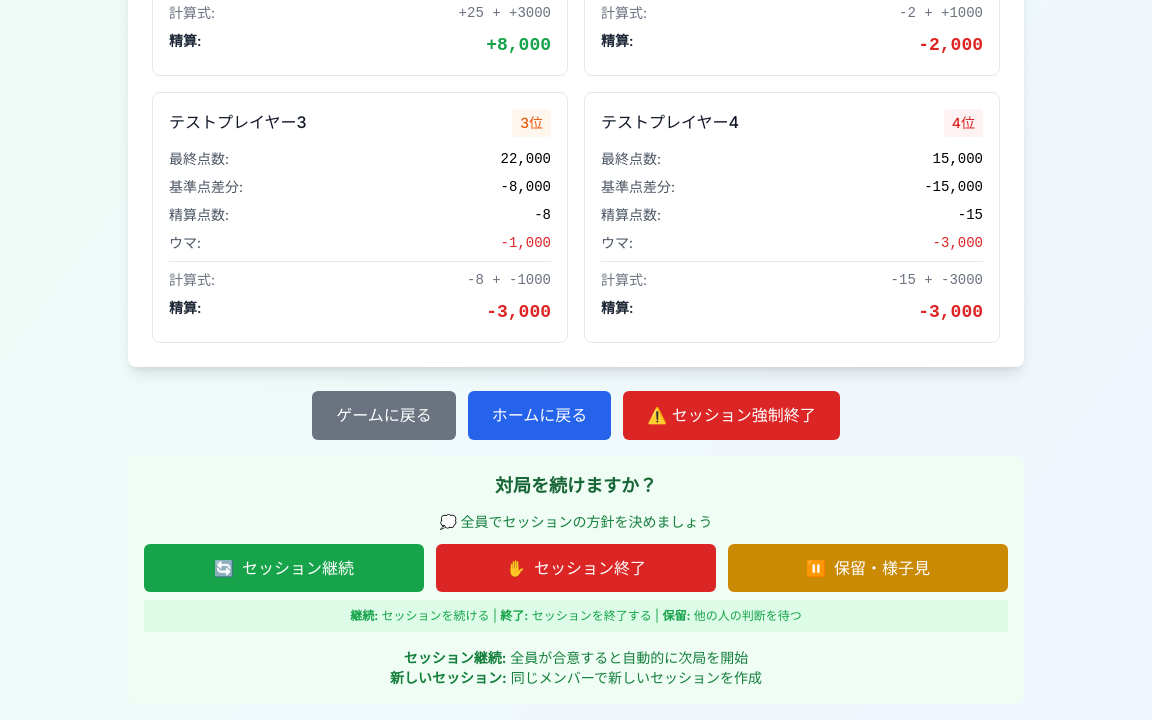
GameResult Phase 2: ホスト専用強制終了機能 › 強制終了ボタンクリックで確認モーダルが表示される
(page scrolled)
Note: 強制終了ボタンをクリック
Step 1. Click the button "⚠️ セッション強制終了" → (732, 415), box 623,391 -> 840,440
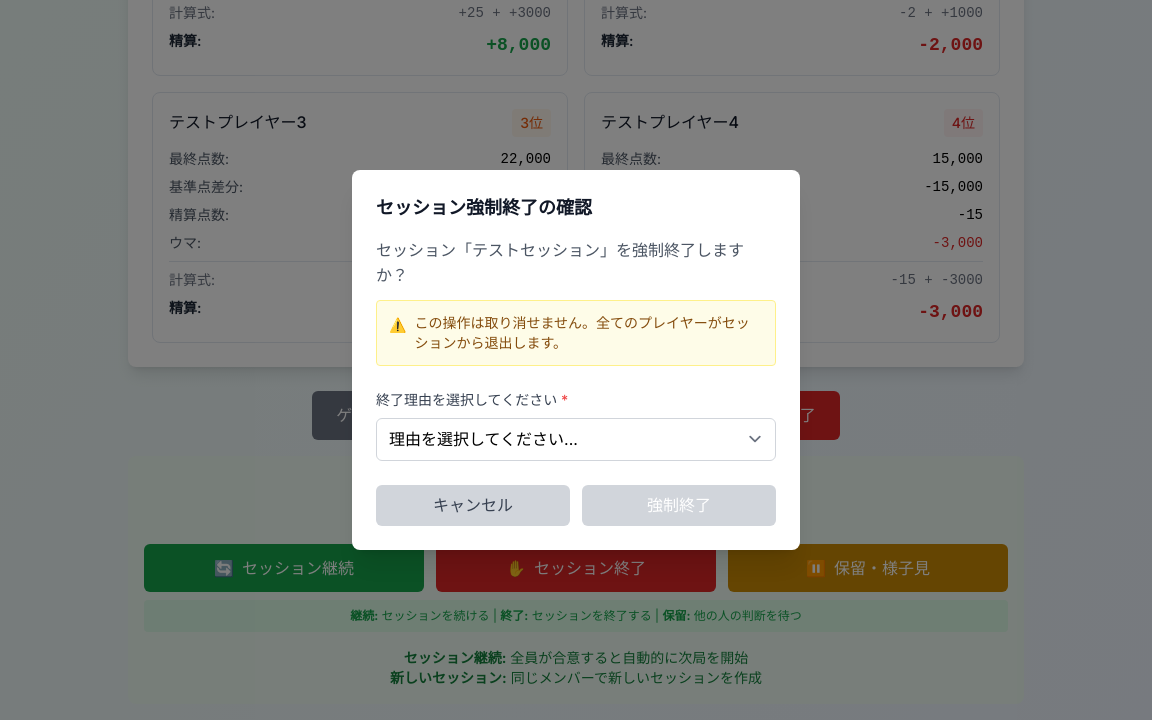
Check: the heading "セッション強制終了の確認" is shown, box 376,197 -> 592,218
Check: the text "セッション「テストセッション」を強制終了しますか？" is shown, box 376,238 -> 776,288
